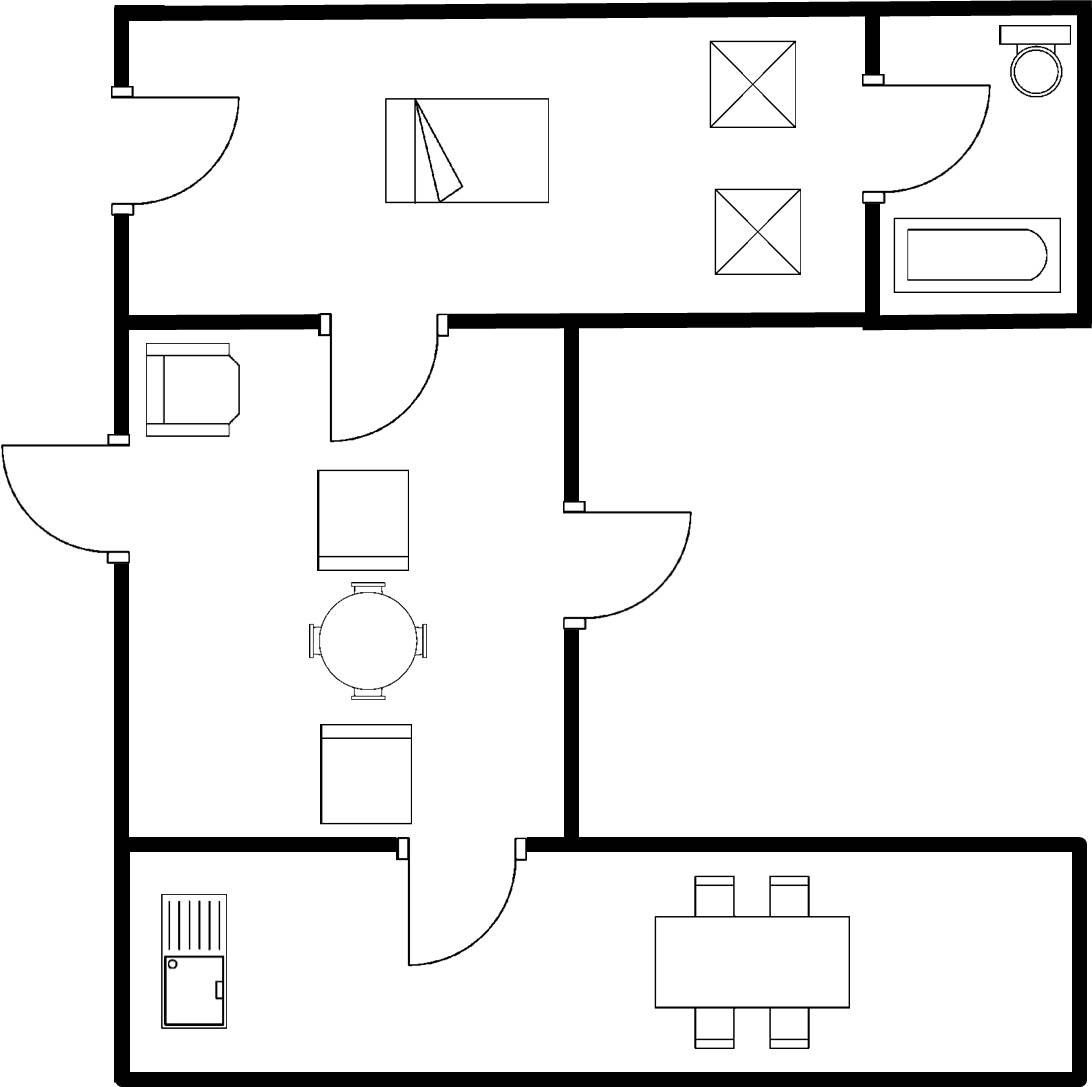armchair: (140, 337, 247, 446)
bed: (375, 91, 560, 212)
coffee_table: (703, 31, 804, 138), (708, 181, 810, 282)
dining_table: (645, 866, 860, 1060)
large_sink: (994, 21, 1074, 101)
round_table: (300, 577, 440, 710)
sink: (153, 885, 234, 1043)
small_sofa: (312, 717, 421, 832), (310, 464, 417, 577)
tub: (888, 211, 1067, 301)
